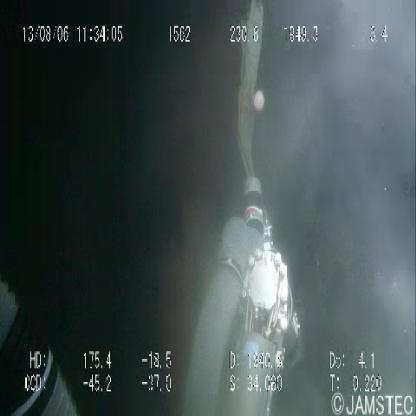Rov: (173, 169, 304, 416), (1, 239, 92, 416)
Rác: (232, 3, 272, 179)
